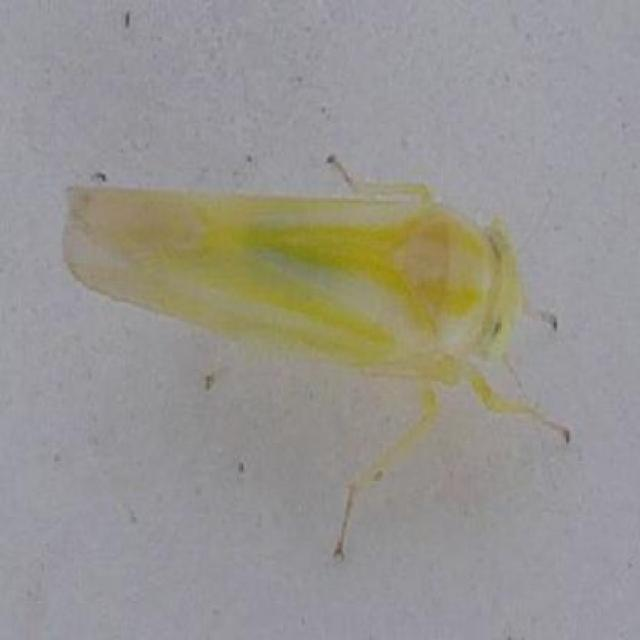green-leafhopper: (68, 146, 557, 420)
